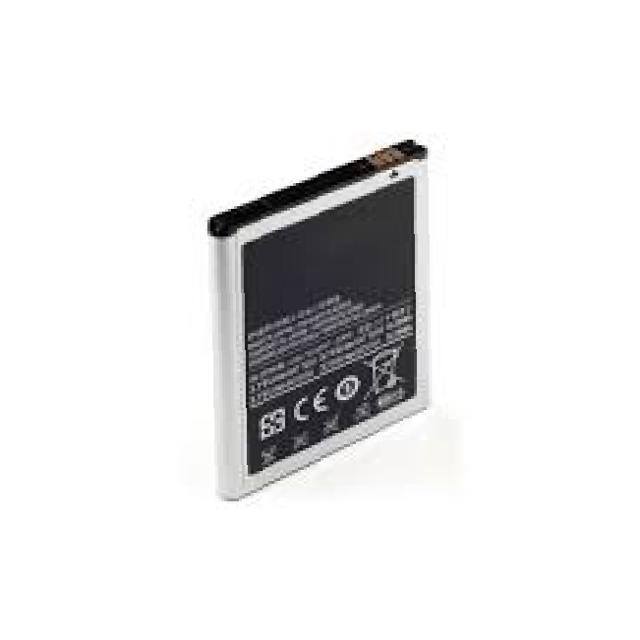Battery: (193, 129, 471, 519)
